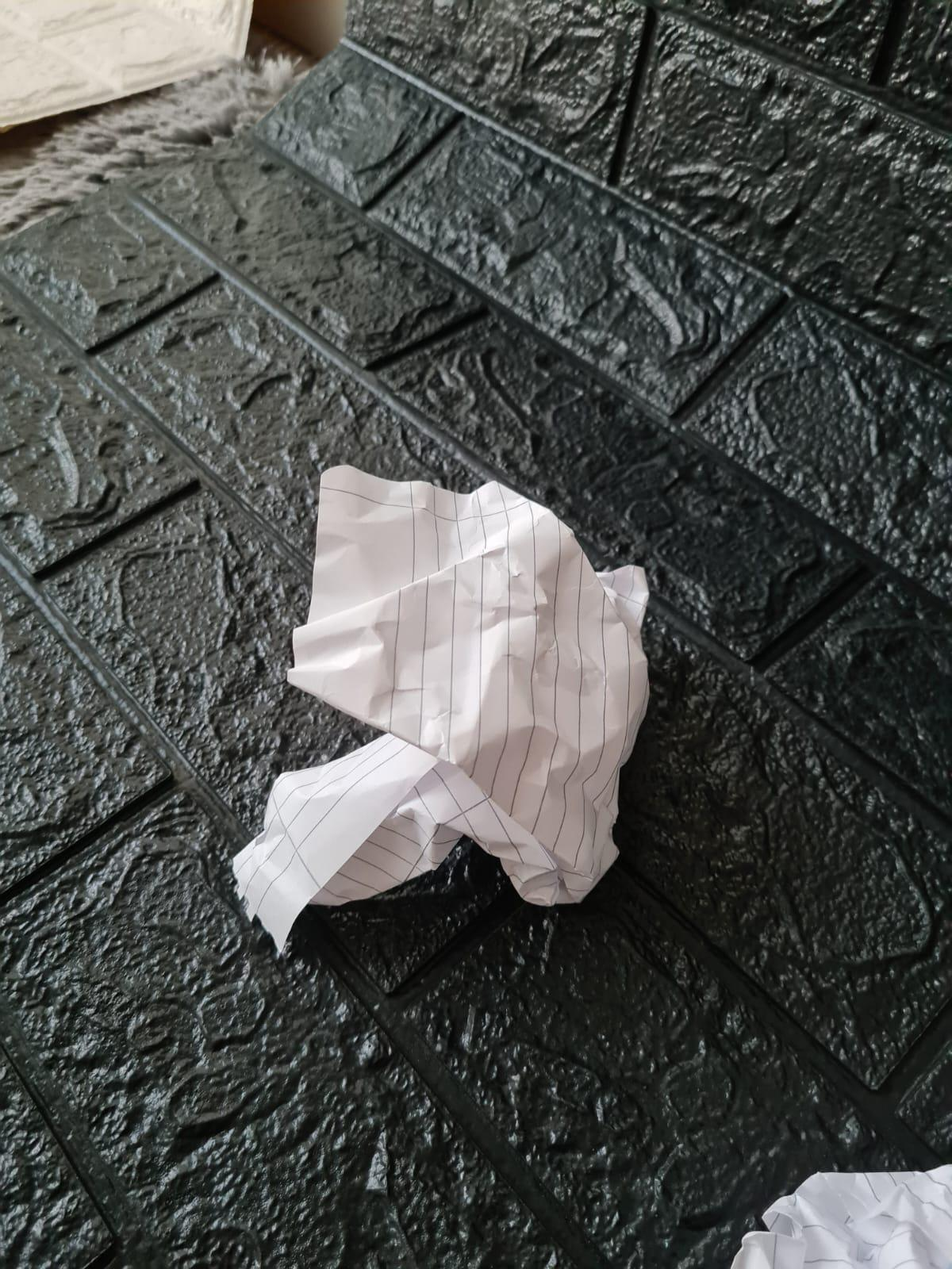paper: (286, 466, 655, 902)
